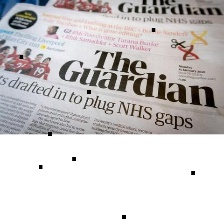news_paper: (0, 0, 224, 134), (40, 0, 224, 28)
